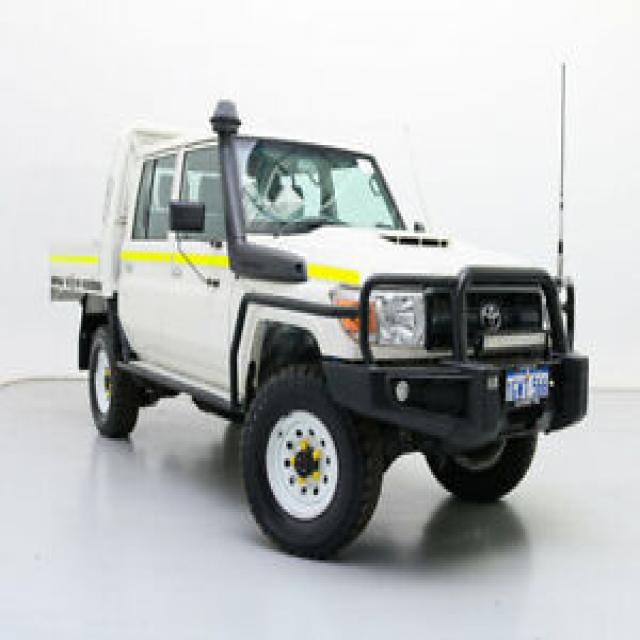light_vehicle: (43, 102, 582, 549)
